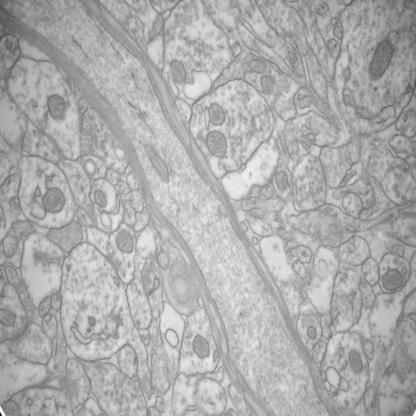mitochondria: (204, 130, 228, 159), (42, 188, 65, 214), (46, 93, 68, 120), (205, 102, 226, 126), (167, 60, 187, 84), (116, 229, 134, 254), (92, 189, 108, 207), (261, 75, 276, 92), (250, 59, 269, 67)
